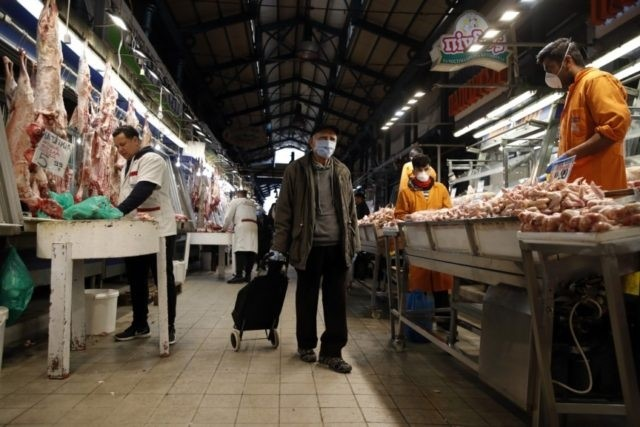face_no_mask: (112, 123, 141, 158)
face_with_mask: (536, 36, 583, 94), (306, 123, 340, 164), (412, 156, 432, 185)
